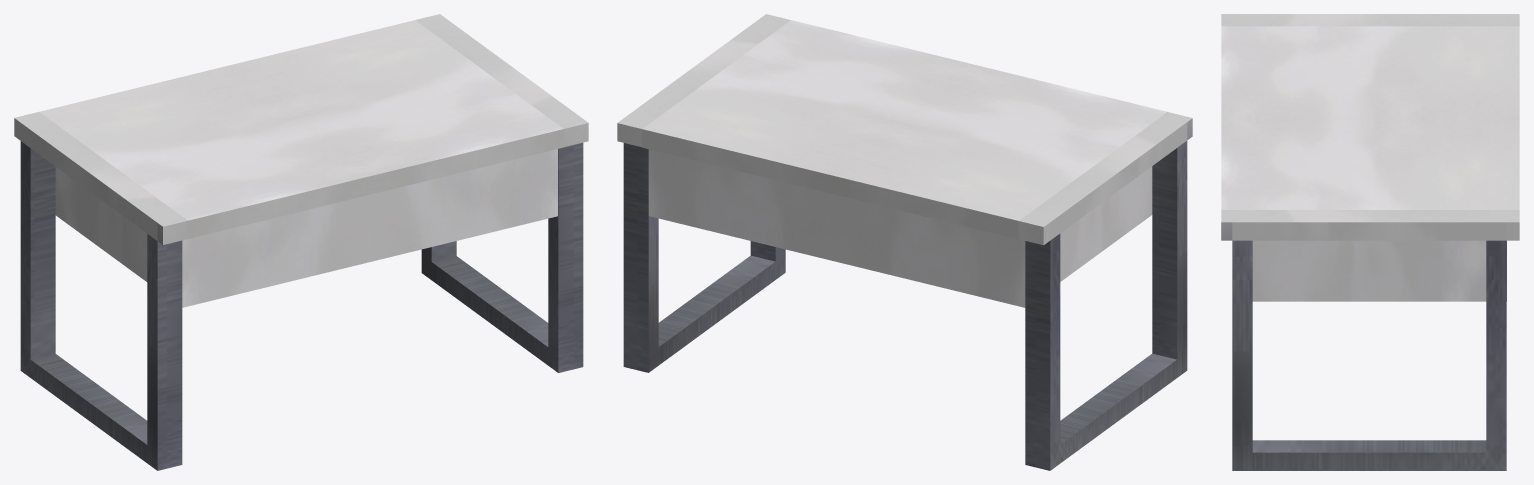
The model's file is smallcoffeetable.gltf.
3 views of the same model, side by side, from view 1: azimuth 30°, elevation 25°; view 2: azimuth 150°, elevation 25°; view 3: azimuth 270°, elevation 25° (orthographic).
Visible parts, largest first — view 1: Cube; view 2: Cube; view 3: Cube.
Part boxes in pixels (bbox=[...]): Cube: bbox=[14, 14, 588, 470]; Cube: bbox=[617, 14, 1192, 470]; Cube: bbox=[1221, 14, 1519, 470].
Bounding box in the file's own units: 3.59 × 2 × 2.18.
1 material, 1 textured.
